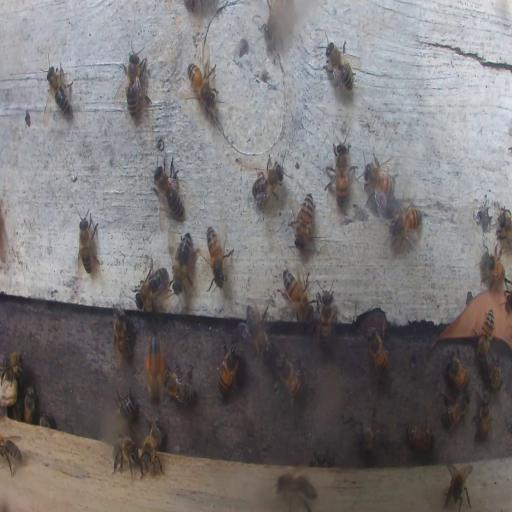bee: (361, 151, 397, 213), (122, 42, 148, 118), (326, 132, 351, 210), (153, 158, 184, 220), (322, 39, 356, 95), (204, 223, 232, 288), (251, 158, 287, 207), (134, 262, 170, 310), (388, 198, 422, 248), (280, 267, 313, 317), (274, 469, 317, 507), (187, 53, 217, 107), (242, 306, 272, 360), (442, 462, 474, 511), (355, 409, 389, 454), (144, 333, 165, 405), (276, 350, 304, 402), (46, 64, 73, 117), (316, 284, 337, 351), (290, 194, 314, 250), (78, 211, 98, 275), (164, 363, 194, 405), (216, 342, 240, 394), (172, 231, 194, 287), (112, 436, 140, 478), (365, 325, 389, 371), (141, 424, 163, 474), (440, 391, 470, 427), (471, 393, 492, 443), (112, 310, 132, 362), (444, 351, 468, 391), (404, 423, 436, 453), (0, 434, 23, 475), (481, 247, 504, 286), (479, 307, 495, 359), (1, 352, 23, 388), (497, 208, 512, 246), (116, 388, 135, 417), (23, 384, 37, 422), (488, 358, 502, 392), (41, 409, 52, 426)
